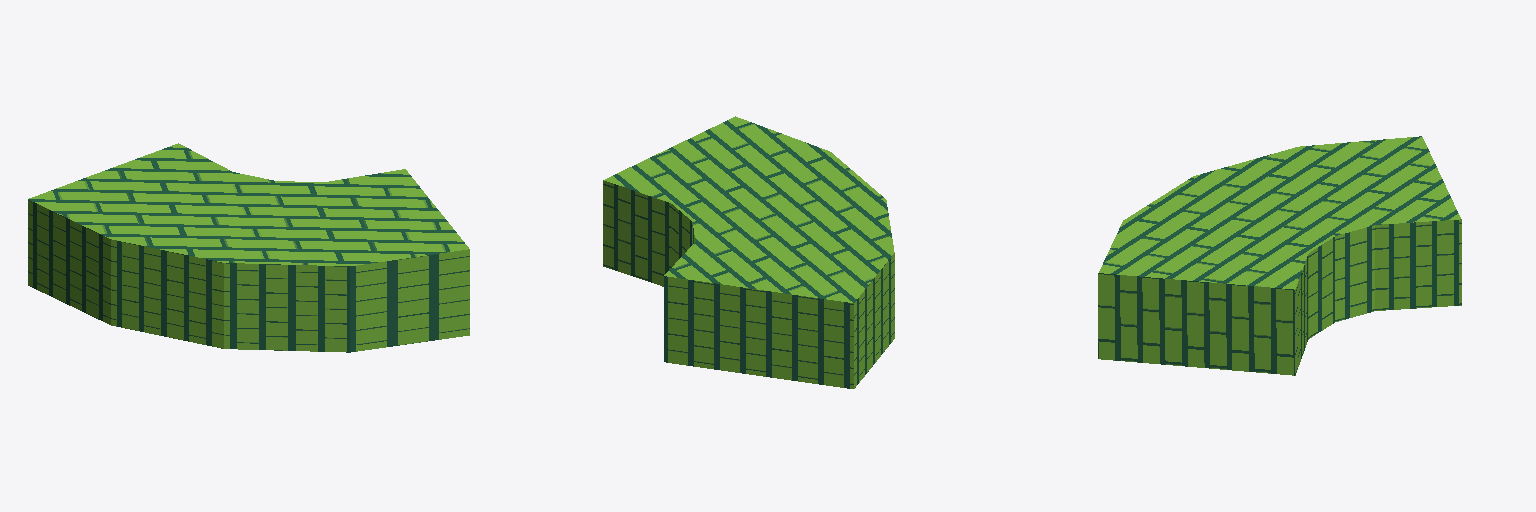
3 views of the same model, side by side, from view 1: azimuth 30°, elevation 25°; view 2: azimuth 150°, elevation 25°; view 3: azimuth 270°, elevation 25° (orthographic).
Parts seen in each view (by area): view 1: Cylinder; view 2: Cylinder; view 3: Cylinder.
Part boxes in pixels (x1,y1,x2,y2): Cylinder: (28,143,469,352); Cylinder: (603,116,894,388); Cylinder: (1098,136,1461,375).
Bounding box in the file's own units: 4.52 × 1.18 × 4.52.
1 materials, 1 textured.